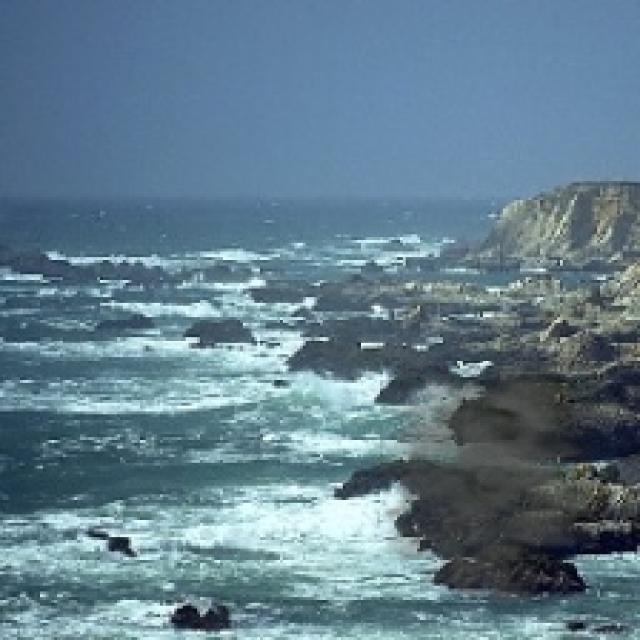Smoke: (352, 351, 608, 603)
